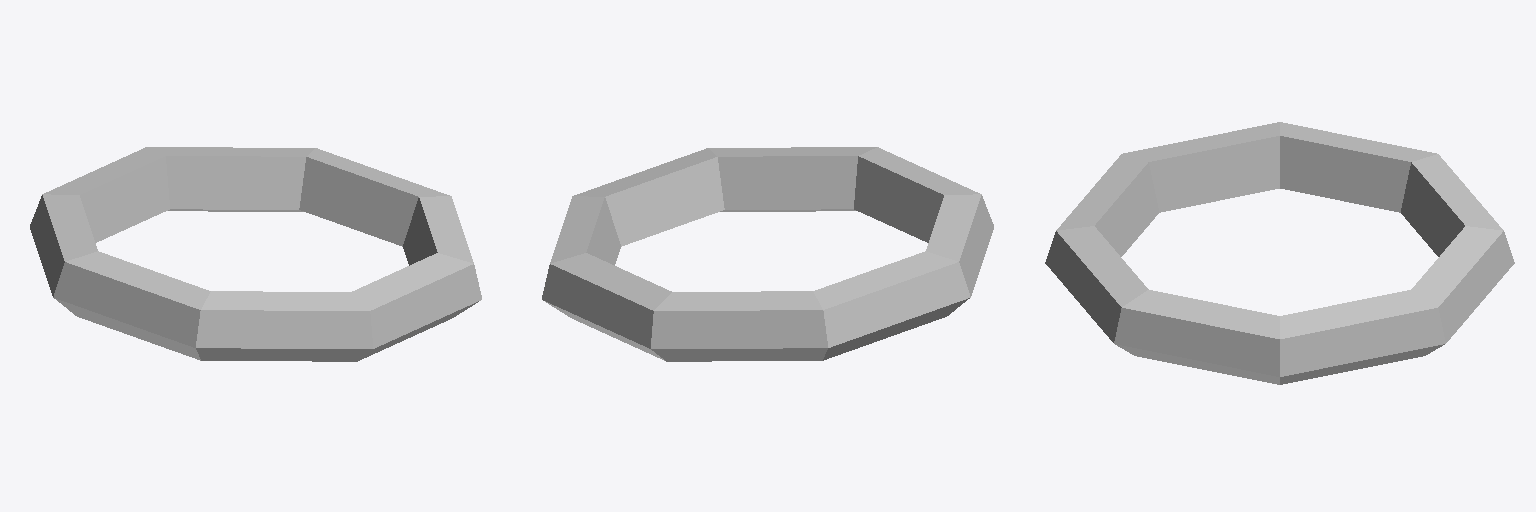
Rendered from lifePreserver.obj.
The picture shows the model from 3 angles: view 1: azimuth 30°, elevation 25°; view 2: azimuth 150°, elevation 25°; view 3: azimuth 270°, elevation 25°; orthographic projection.
Parts seen in each view (by area): view 1: Buoy boat; view 2: Buoy boat; view 3: Buoy boat.
Part boxes in pixels (bbox=[...]): Buoy boat: bbox=[30, 147, 481, 361]; Buoy boat: bbox=[542, 147, 993, 361]; Buoy boat: bbox=[1045, 122, 1514, 384].
Bounding box in the file's own units: 1.1 × 0.2242 × 1.1.